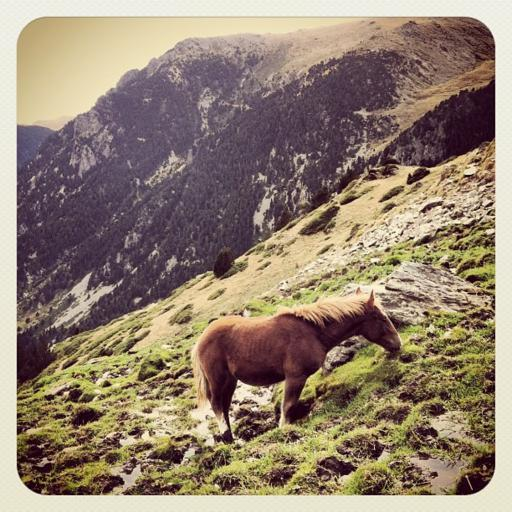horse: (188, 285, 402, 448)
